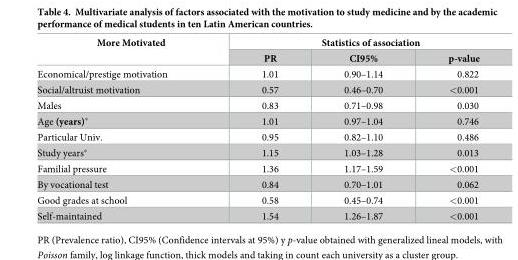table: (36, 37, 478, 220)
table column: (36, 37, 213, 220), (310, 37, 414, 220), (213, 37, 310, 220), (414, 37, 478, 220)
table column header: (36, 37, 478, 65)
table row: (36, 112, 478, 129), (36, 144, 478, 161), (36, 65, 478, 81), (36, 81, 478, 97), (36, 176, 478, 192), (36, 192, 478, 208), (36, 50, 478, 65), (36, 97, 478, 112), (36, 129, 478, 144), (36, 161, 478, 176), (36, 37, 478, 50), (36, 208, 478, 220)
table spanning cell: (36, 37, 213, 65), (213, 37, 478, 50)
